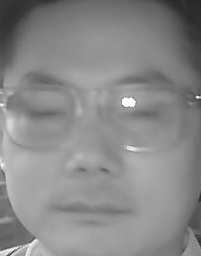blink: (23, 103, 64, 123)
glass: (98, 83, 184, 150), (3, 84, 79, 149)
mouth: (53, 188, 128, 232)
